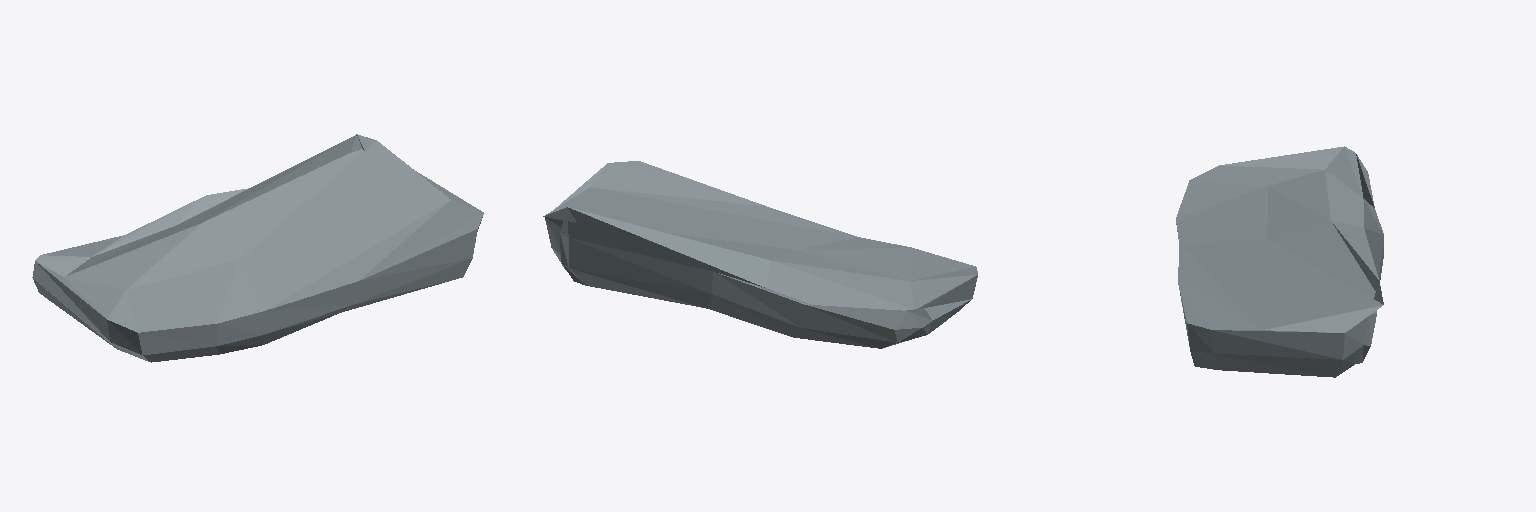
The model's file is platform.obj.
The picture shows the model from 3 angles: view 1: azimuth 30°, elevation 25°; view 2: azimuth 150°, elevation 25°; view 3: azimuth 270°, elevation 25°; orthographic projection.
Parts seen in each view (by area): view 1: Plane_Plane.001; view 2: Plane_Plane.001; view 3: Plane_Plane.001.
Part boxes in pixels (bbox=[...]): Plane_Plane.001: bbox=[32, 134, 483, 362]; Plane_Plane.001: bbox=[543, 161, 977, 348]; Plane_Plane.001: bbox=[1176, 146, 1383, 377].
Bounding box in the file's own units: 3.1 × 0.7394 × 1.44.